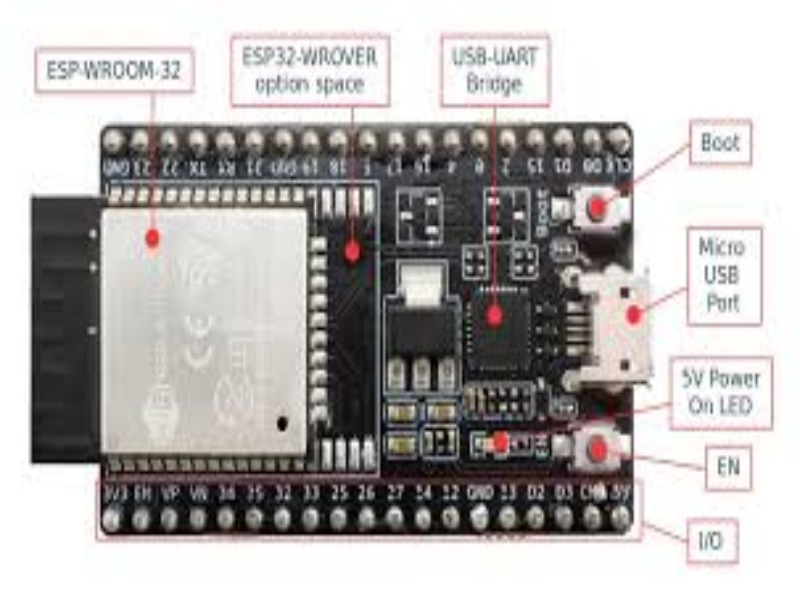esp32: (92, 111, 643, 557)
